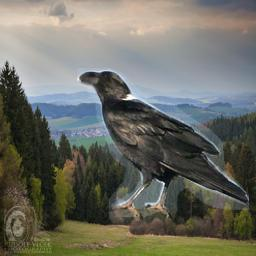Crow: (77, 68, 249, 225)
